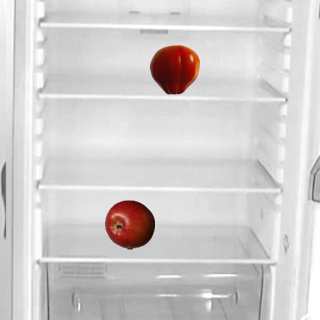Apple Braeburn: (104, 199, 154, 249)
Tomato 1: (149, 44, 199, 94)
